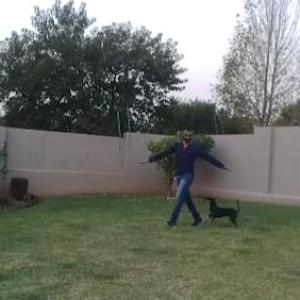land: (159, 123, 236, 216)
